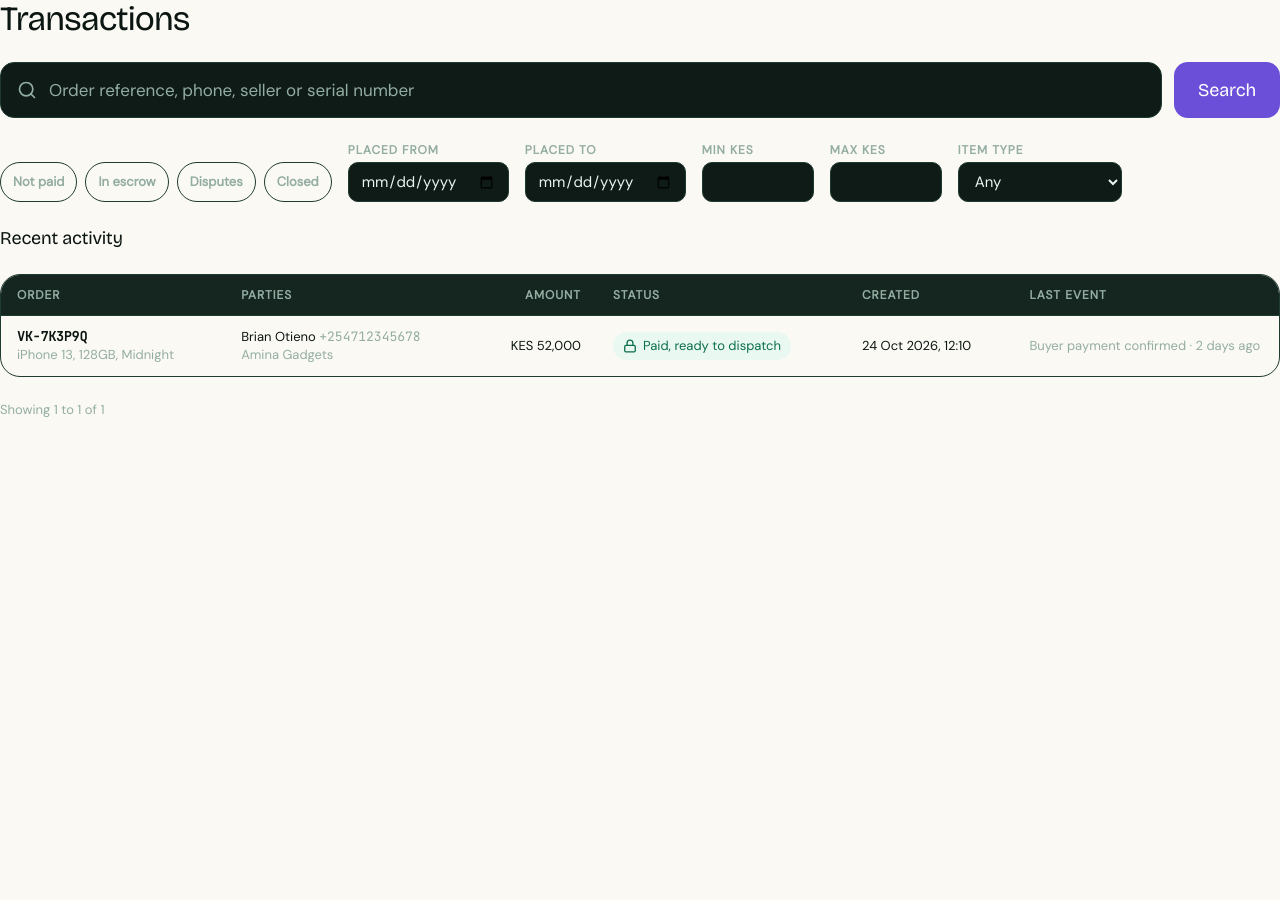
Test case: A4 transactions explorer › opens a read-only slide-over with full phones and the case link
Click the button "VK-7K3P9Q" at (52, 337), box [17,328,87,346]
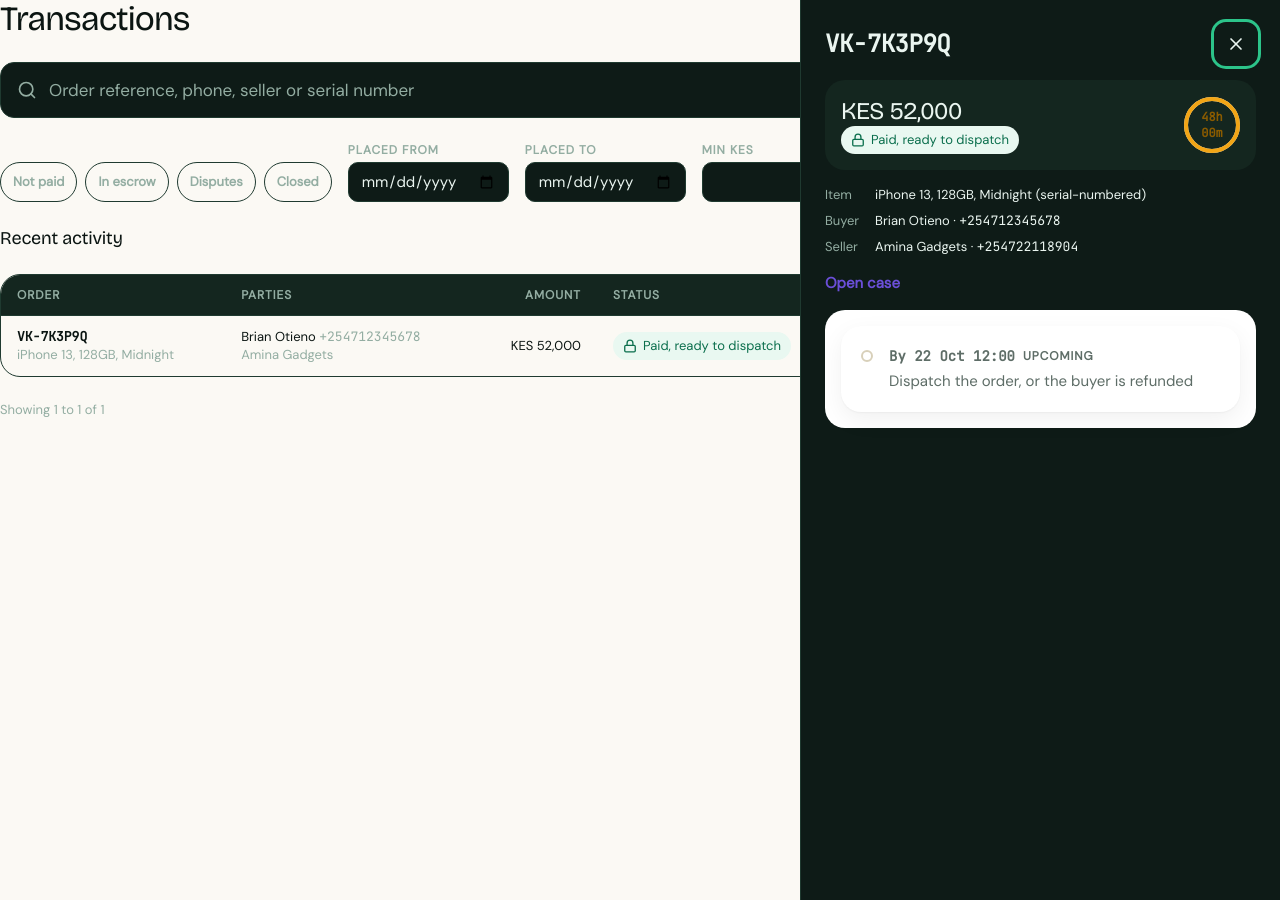
Result: the text "+254722118904" is shown at [977,238,1078,255]
Click the button named "Close" at (1236, 44), box [1216,24,1256,64]
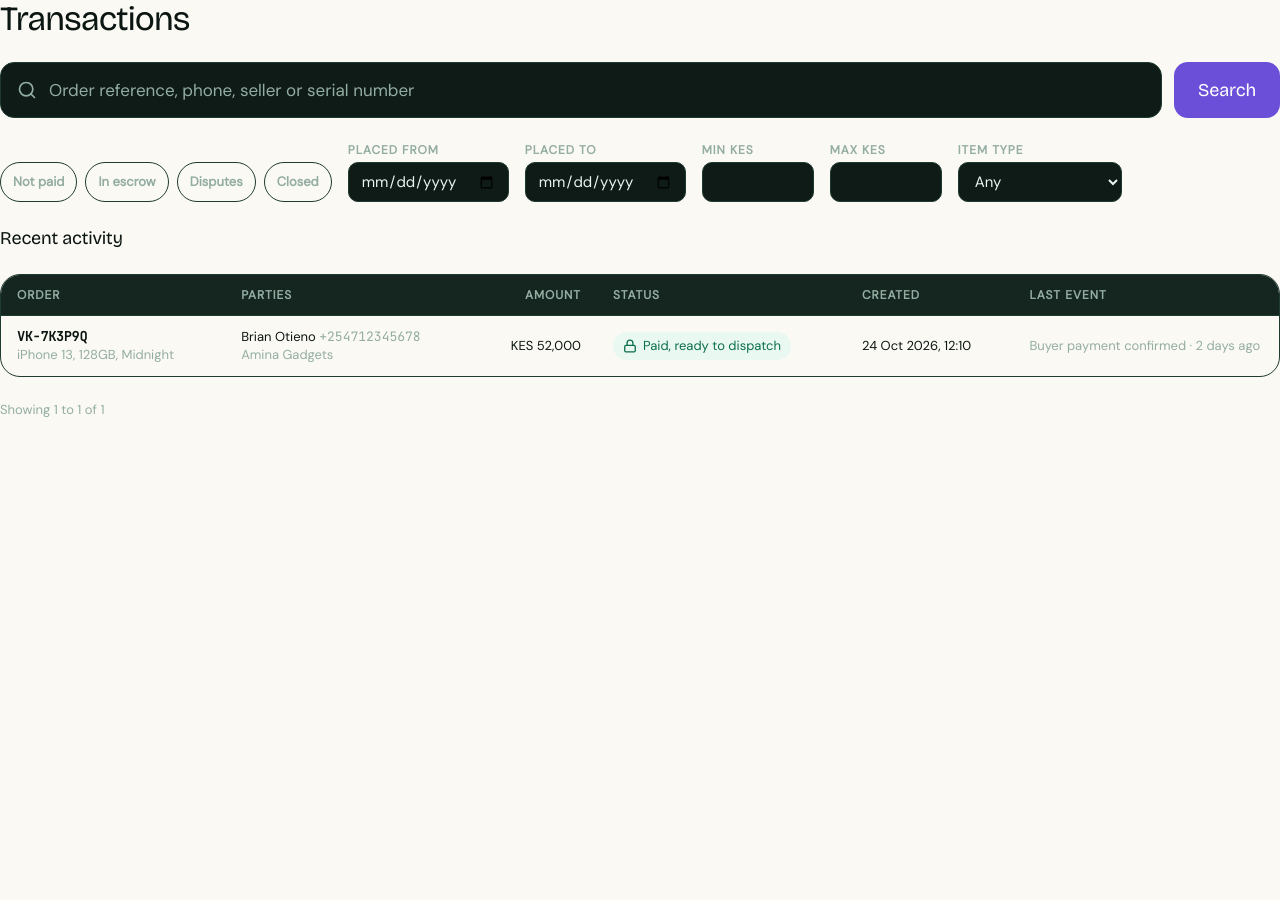
Result: the dialog is gone
